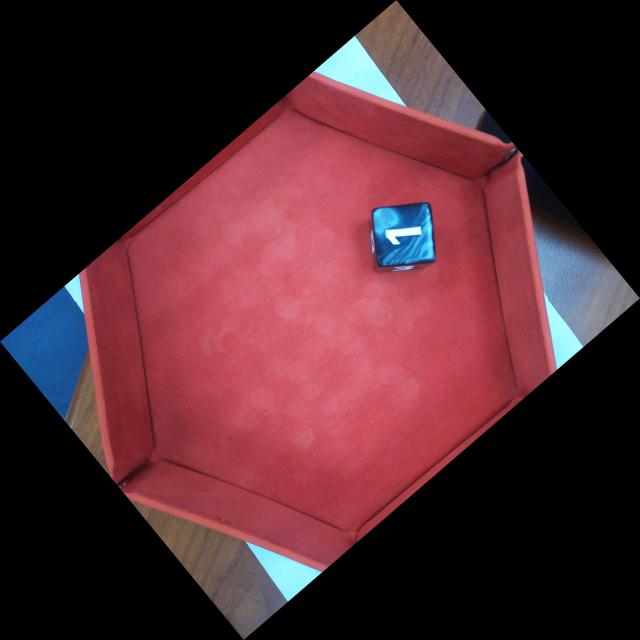dice: (373, 199, 436, 266)
